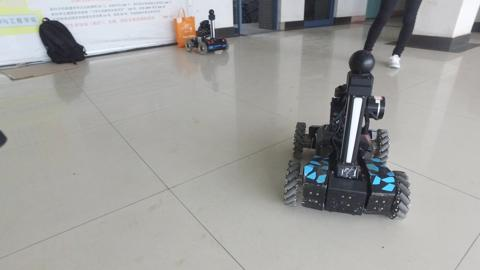bag: (36, 15, 88, 66), (173, 6, 198, 50)
chariot: (282, 50, 411, 221), (184, 7, 230, 56)
